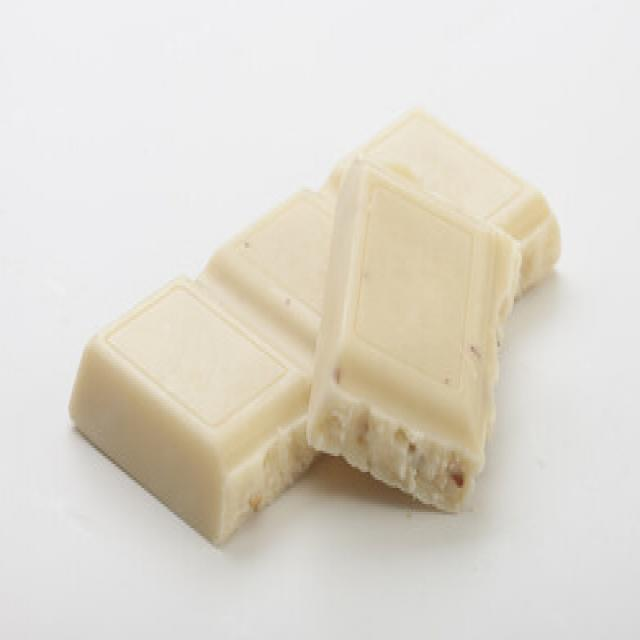Chocolate: (68, 100, 566, 546), (303, 155, 526, 518)
